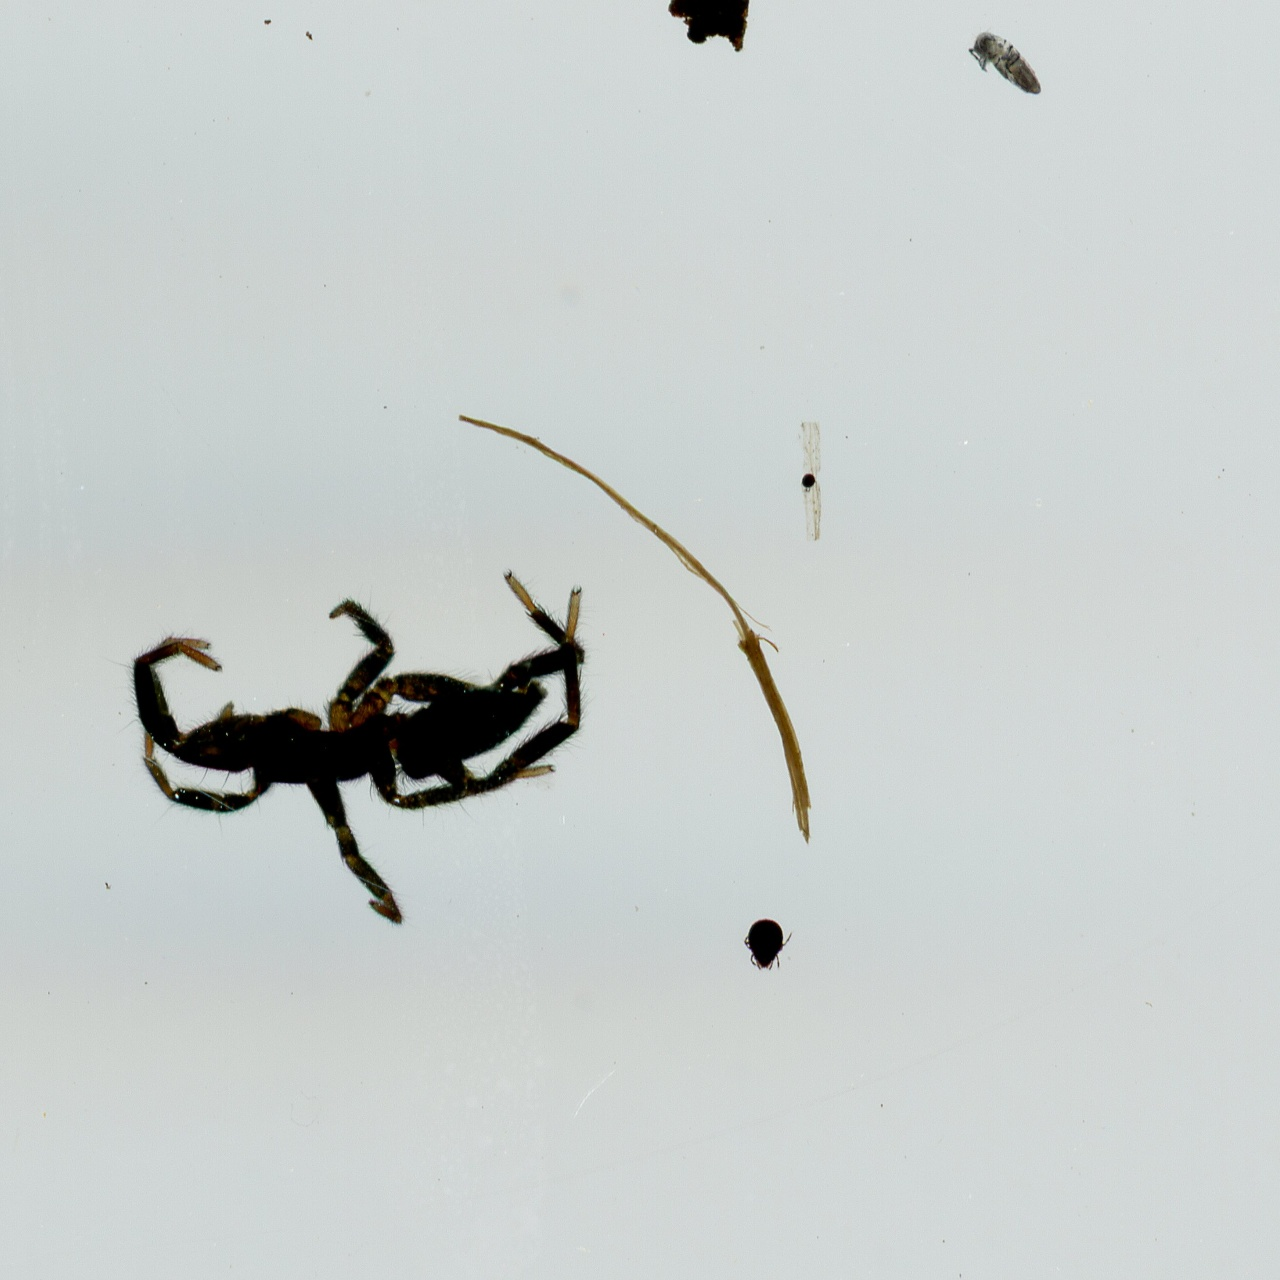arthropod: (100, 558, 594, 940), (949, 7, 1062, 121), (741, 913, 798, 973)
